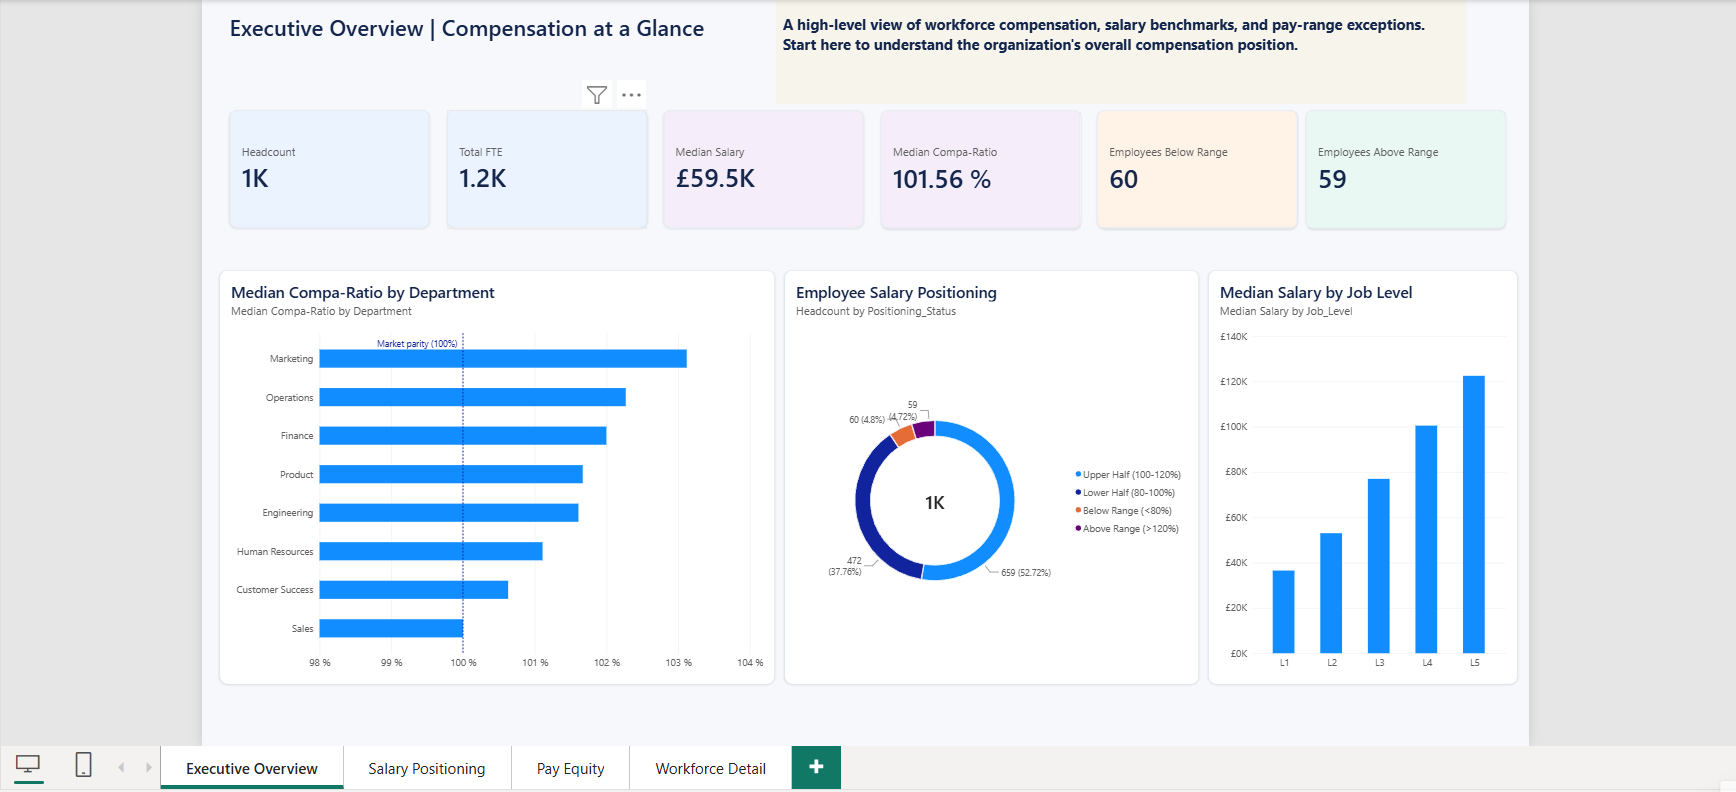

What the dashboard file says about the page in this screenshot:
{"tool":"powerbi","page":{"name":"Executive Overview","canvas":[1920,1080],"ordinal":0},"visuals":[{"type":"cardVisual","fields":{"Data":["_Measures.Headcount"]},"box":[40,160,290,171],"z":0},{"type":"cardVisual","fields":{"Data":["_Measures.Total FTE"]},"box":[354,160,290,171],"z":1000},{"type":"cardVisual","fields":{"Data":["_Measures.Median Salary"]},"box":[668,160,290,171],"z":2000},{"type":"cardVisual","fields":{"Data":["_Measures.Median Compa-Ratio"]},"box":[982,160,290,172],"z":3000},{"type":"cardVisual","fields":{"Data":["_Measures.Employees Below Range"]},"box":[1296,160,290,172],"z":4000},{"type":"cardVisual","fields":{"Data":["_Measures.Employees Above Range"]},"box":[1598,160,290,172],"z":5000},{"type":"clusteredBarChart","title":"Median Compa-Ratio by Department","fields":{"Category":["Fact_Compensation.Department"],"Y":["_Measures.Median Compa-Ratio"]},"box":[26,390,804,600],"z":6000},{"type":"donutChart","title":"Employee Salary Positioning","fields":{"Category":["Fact_Compensation.Positioning_Status"],"Y":["_Measures.Headcount"]},"box":[844,390,600,600],"z":7000},{"type":"clusteredColumnChart","title":"Median Salary by Job Level","fields":{"Category":["Fact_Compensation.Job_Level"],"Y":["_Measures.Median Salary"]},"box":[1456,390,448,600],"z":8000},{"type":"textbox","box":[40,18,720,100],"z":9000},{"type":"textbox","box":[830,0,1000,150],"z":9001}]}

Visuals, with their boxes on the page's 1920x1080 design canvas (x1, y1, x2, y2). These are canvas units, not pixel positions in the 1736x792 screenshot, which may show the page scaled, cropped or inside an application window:
cardVisual - _Measures.Headcount: (40, 160, 330, 331)
cardVisual - _Measures.Total FTE: (354, 160, 644, 331)
cardVisual - _Measures.Median Salary: (668, 160, 958, 331)
cardVisual - _Measures.Median Compa-Ratio: (982, 160, 1272, 332)
cardVisual - _Measures.Employees Below Range: (1296, 160, 1586, 332)
cardVisual - _Measures.Employees Above Range: (1598, 160, 1888, 332)
"Median Compa-Ratio by Department" clusteredBarChart: (26, 390, 830, 990)
"Employee Salary Positioning" donutChart: (844, 390, 1444, 990)
"Median Salary by Job Level" clusteredColumnChart: (1456, 390, 1904, 990)
textbox: (40, 18, 760, 118)
textbox: (830, 0, 1830, 150)
